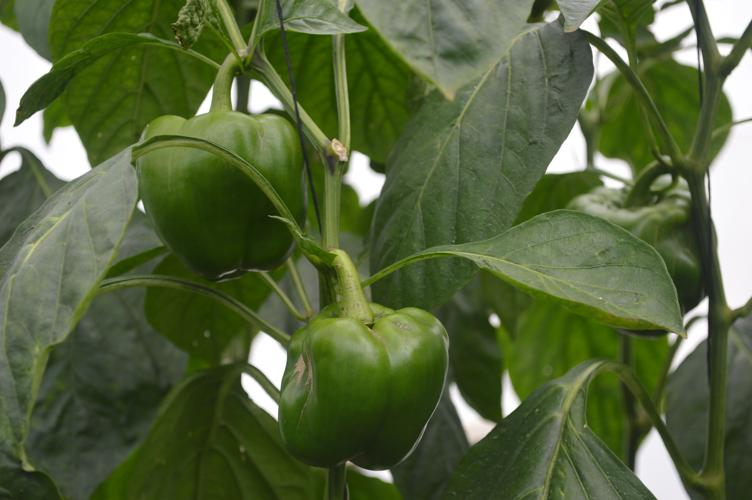BellPepper: (270, 301, 451, 476), (138, 113, 304, 279), (574, 184, 715, 312)
